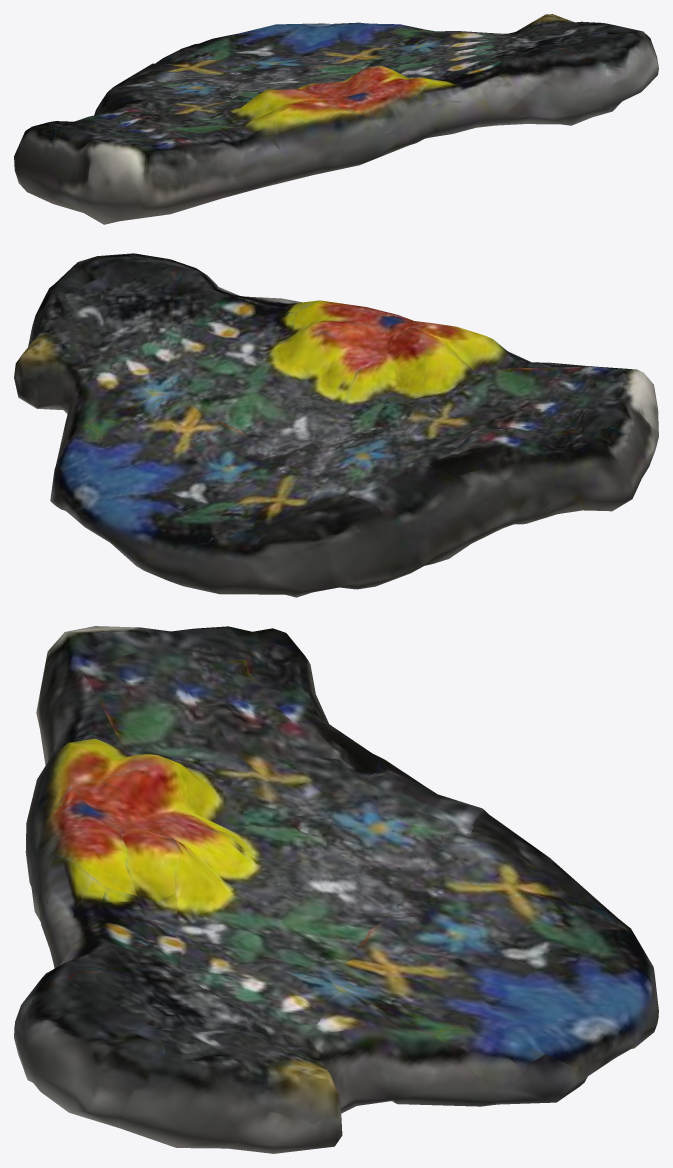
File: hall.glb
3 renders of one model, top to bottom at view 1: azimuth 30°, elevation 25°; view 2: azimuth 150°, elevation 25°; view 3: azimuth 270°, elevation 25°, orthographic. The views are drawn at different scales.
Bounding box in the file's own units: 0.6441 × 0.1415 × 0.3915.
1 material, 1 textured.
